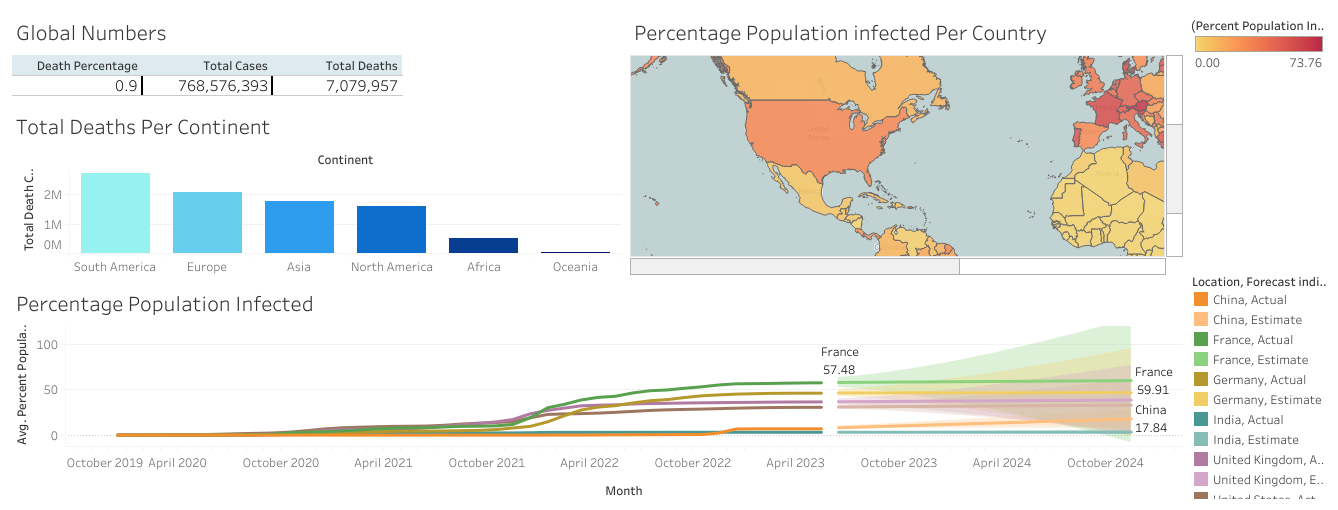

The page's visual inventory and layout, read from the dashboard file:
{"tool":"tableau","page":{"name":"Dashboard 1","canvas":[1000,1000],"units":"permille","ordinal":0},"visuals":[{"type":"worksheet","title":"Sheet 1","mark":"Automatic","box":[6.8,13.7,453.4,184.1]},{"type":"worksheet","title":"Sheet 3","mark":"Multipolygon","box":[460.2,13.7,411,532.5]},{"type":"legend","title":"Sheet 3","param":"[federated.1apae6r0pnnmcg19v9oy71cqvub0].[sum:PercentPopulationInfected:qk]","box":[871.2,13.7,122,366.4]},{"type":"worksheet","title":"Sheet 2","mark":"Automatic","rows":["TotalDeathCount"],"cols":["location"],"box":[6.8,197.8,453.4,348.4]},{"type":"legend","title":"Sheet 4","param":"[federated.0kbbpkh1aexqnu133sx8b06mp032].[none:Location:nk]\n[federated.0kbbpkh1a","box":[871.2,520.5,122,465.8]},{"type":"worksheet","title":"Sheet 4","mark":"Automatic","rows":["PercentPopulationInfected"],"cols":["date"],"box":[6.8,546.2,864.4,440.1]}]}

Visuals, with their boxes on the dashboard's canvas, which has no fixed pixel size, in thousandths of its width and height (x1, y1, x2, y2). These are canvas units, not pixel positions in the 1338x510 screenshot, which may show the page scaled, cropped or inside an application window:
"Sheet 1" worksheet: bbox(7, 14, 460, 198)
"Sheet 3" worksheet (Multipolygon marks): bbox(460, 14, 871, 546)
"Sheet 3" legend: bbox(871, 14, 993, 380)
"Sheet 2" worksheet: bbox(7, 198, 460, 546)
"Sheet 4" legend: bbox(871, 520, 993, 986)
"Sheet 4" worksheet: bbox(7, 546, 871, 986)
